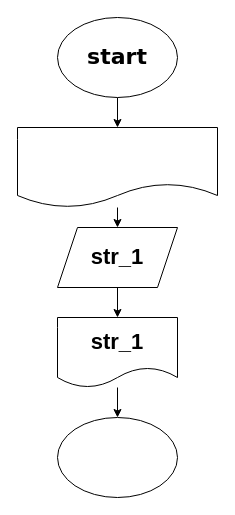
The diagram is 235 pixels wide and 515 high, and some of its shapes have lost their labels. The centre of each missing label's shape, as x and y in pixels:
end: (x=117, y=457)
Введите текущий день:: (x=117, y=167)
